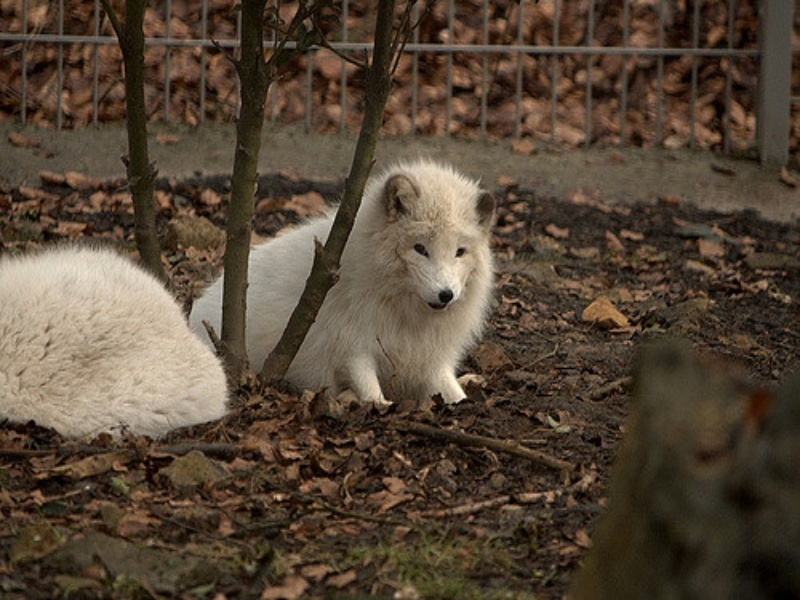fox: (201, 155, 498, 411)
